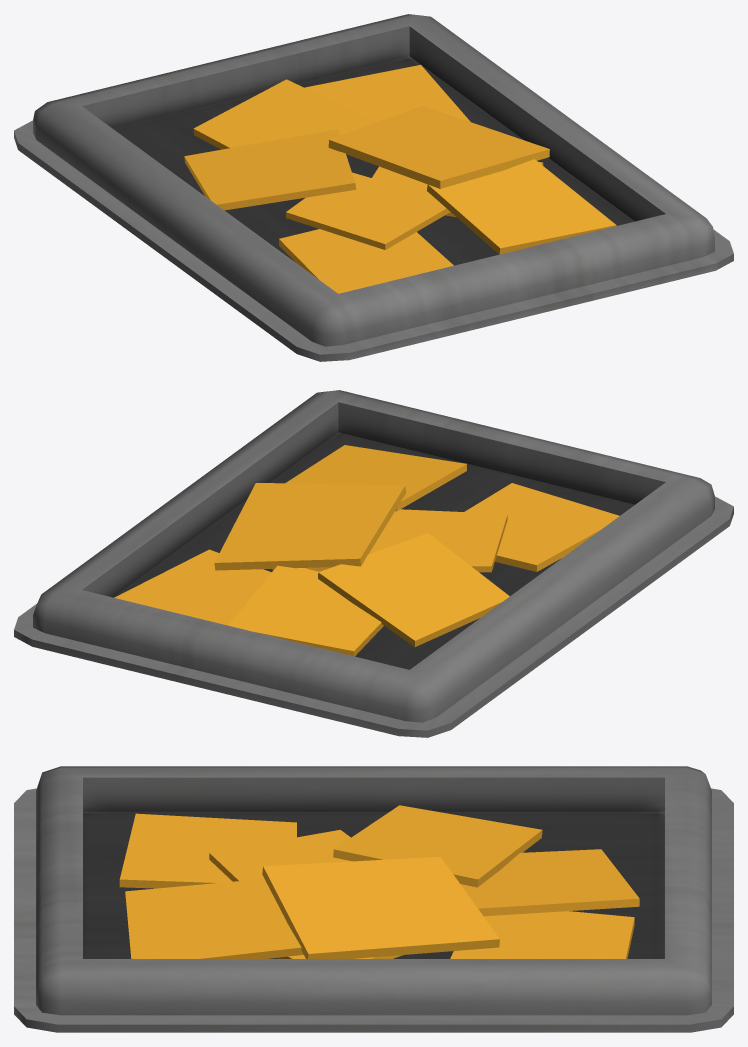
Rendered from rack_cheese.FBX.
3 renders of one model, top to bottom at view 1: azimuth 30°, elevation 25°; view 2: azimuth 150°, elevation 25°; view 3: azimuth 270°, elevation 25°, orthographic. The views are drawn at different scales.
Visible parts, largest first — view 1: rack_cheese; view 2: rack_cheese; view 3: rack_cheese.
Part boxes in pixels (x1,y1,x2,y2): rack_cheese: [14, 14, 733, 361]; rack_cheese: [14, 390, 733, 737]; rack_cheese: [14, 766, 733, 1032].
Bounding box in the file's own units: 22.34 × 2.46 × 28.36.
